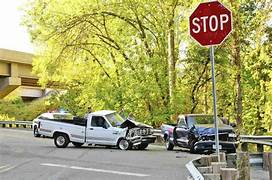stop: (189, 2, 232, 47)
